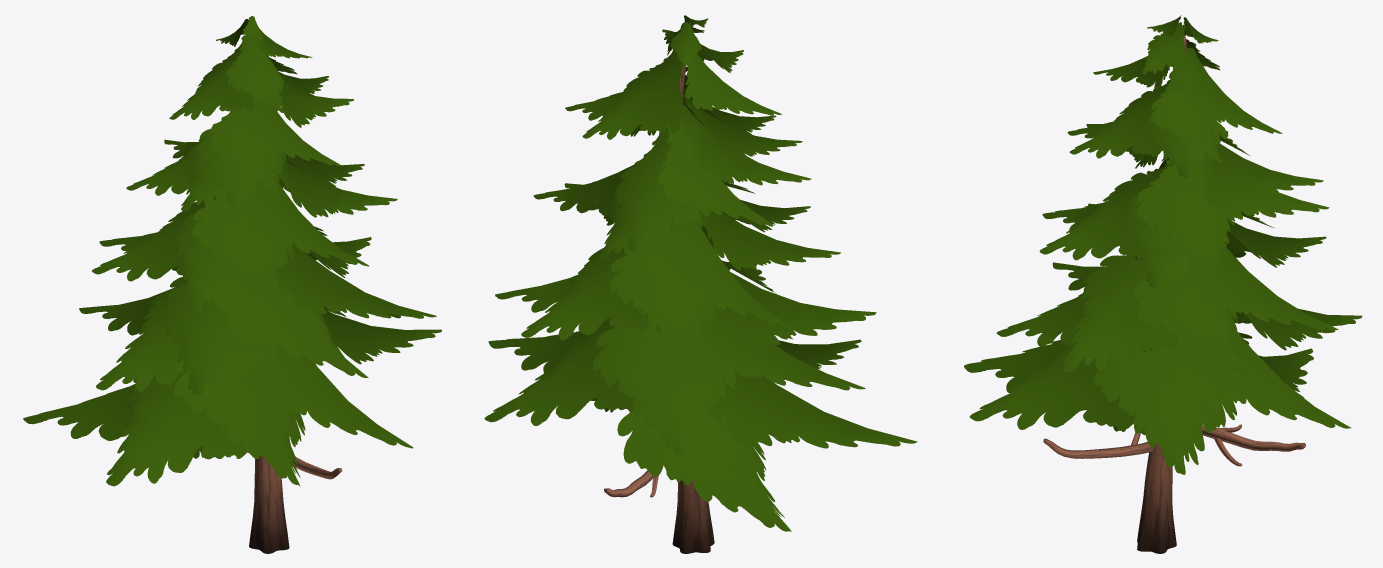
Rendered from Pine_2.gltf.
3 renders of one model, left to right at view 1: azimuth 30°, elevation 25°; view 2: azimuth 150°, elevation 25°; view 3: azimuth 270°, elevation 25°, orthographic. The views are drawn at different scales.
Parts seen in each view (by area): view 1: Pine_2; view 2: Pine_2; view 3: Pine_2.
Boxes of the visible parts, bbox=[...] form: Pine_2: bbox=[23, 16, 441, 553]; Pine_2: bbox=[484, 15, 917, 553]; Pine_2: bbox=[964, 15, 1362, 553].
Bounding box in the file's own units: 5.73 × 7.38 × 5.22.
Materials: 2 (2 with a texture image).
